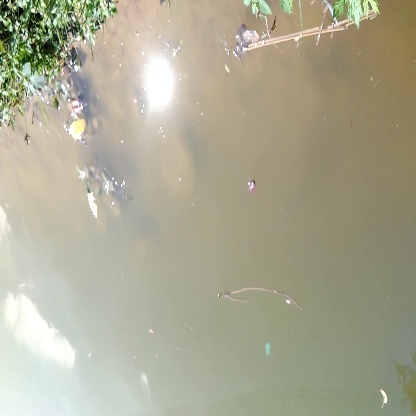branch: (234, 11, 385, 52)
